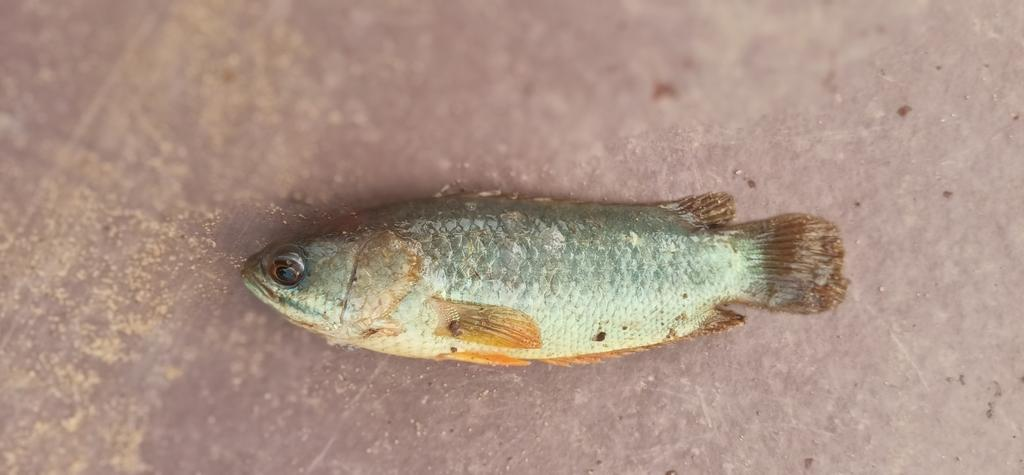Climbing Perch: (242, 193, 847, 366)
